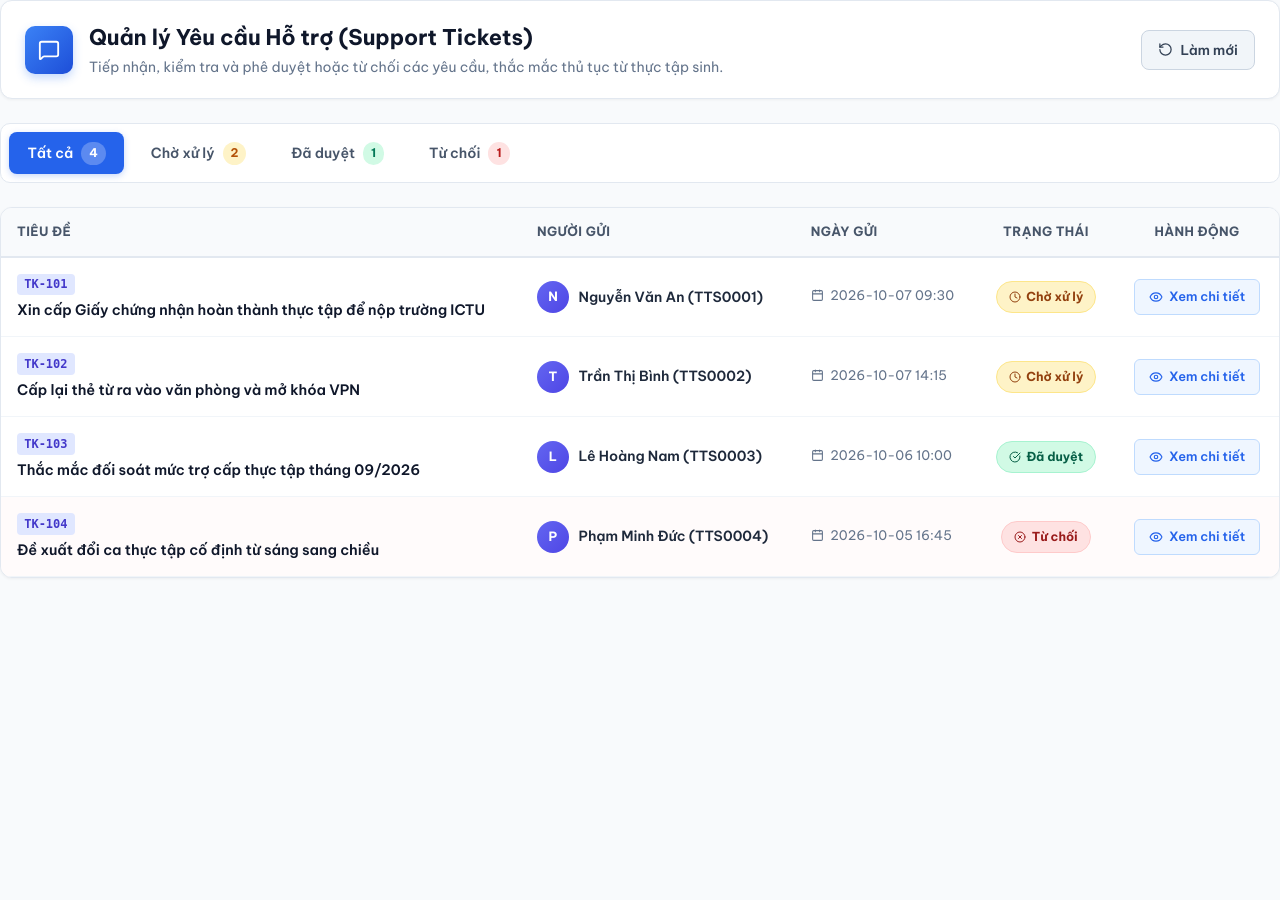
Test: SupportTicketManager Test Suite › 2. Modal xử lý & Validation bắt buộc phản hồi khi Từ chối › mở modal khi bấm "Xem chi tiết", hiển thị đúng nội dung yêu cầu TTS và ô textarea
Step 1. Click the button "Xem chi tiết" in the row of "TK-101" → {"x": 1197, "y": 297}, box [1134,279,1260,315]
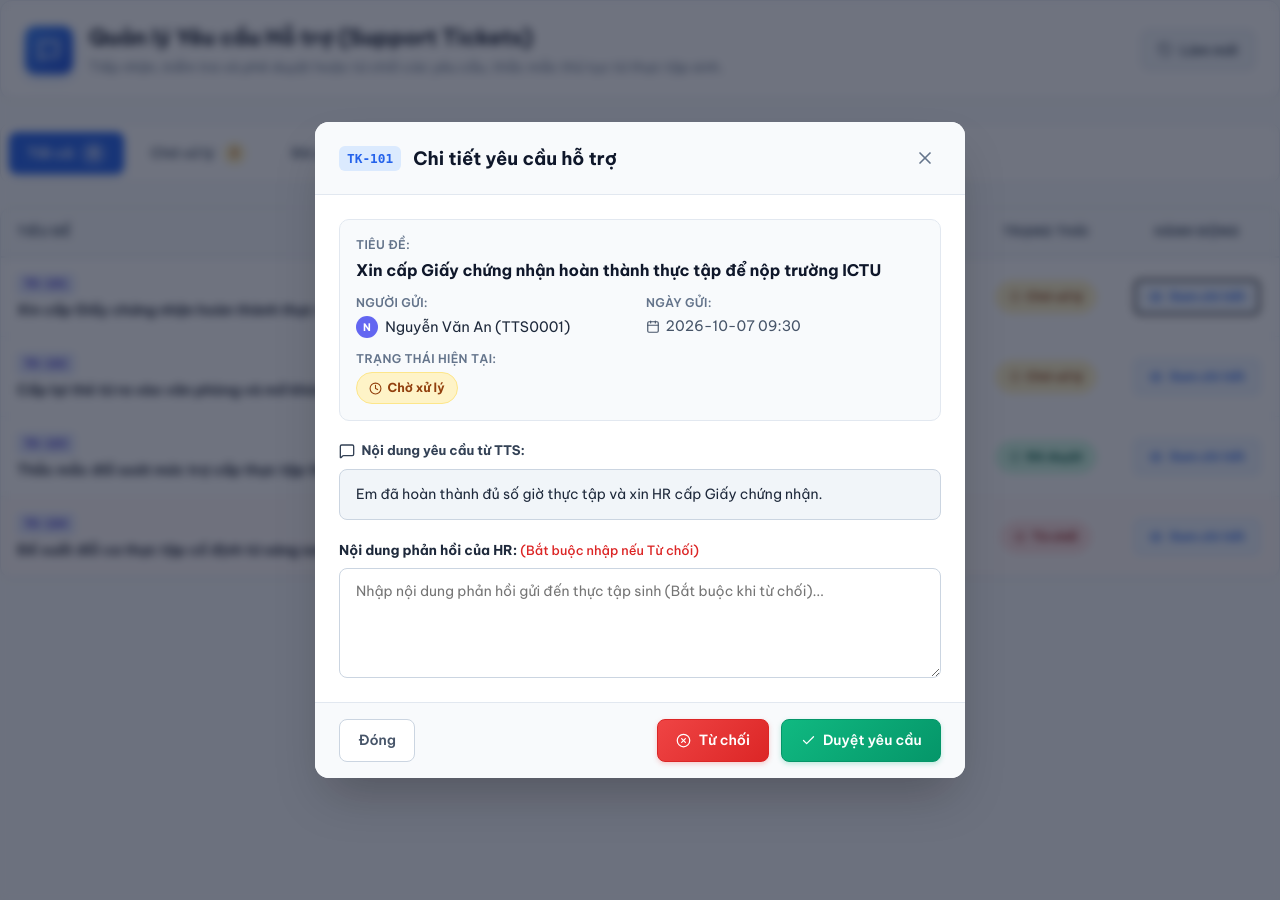
Expected: the dialog is shown
Expected: the text with test id "ticket-description-content" reads "Em đã hoàn thành đủ số giờ thực tập và xin HR cấp Giấy chứng nhận.", [356,485,822,503]
Expected: the text box labelled "Nội dung phản hồi của HR: (Bắt buộc nhập nếu Từ chối)" is shown, [339,568,941,678]
